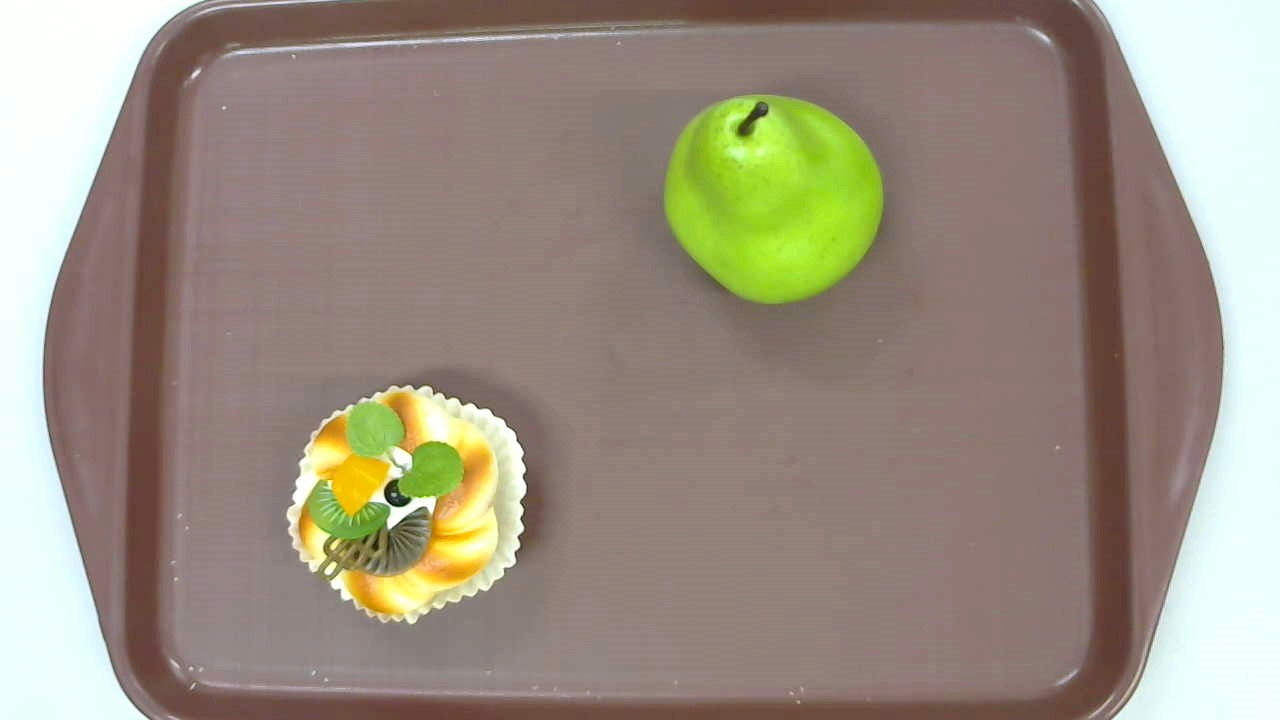fruit tart: (285, 384, 527, 624)
green pear: (663, 94, 885, 307)
